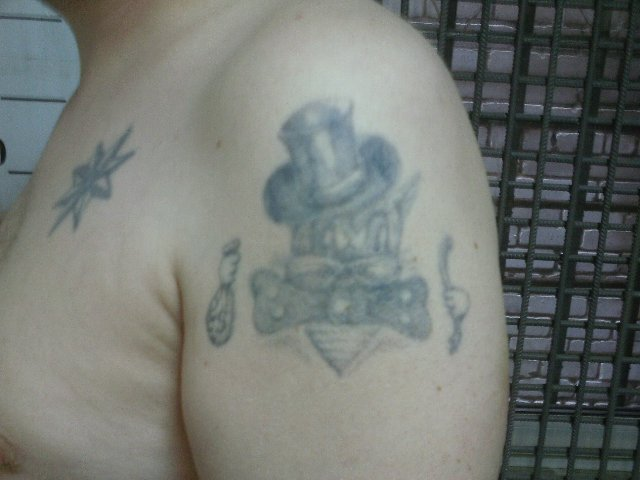tatu4_zvezda: (34, 115, 149, 247)
tatu8_kot: (186, 86, 482, 377)
